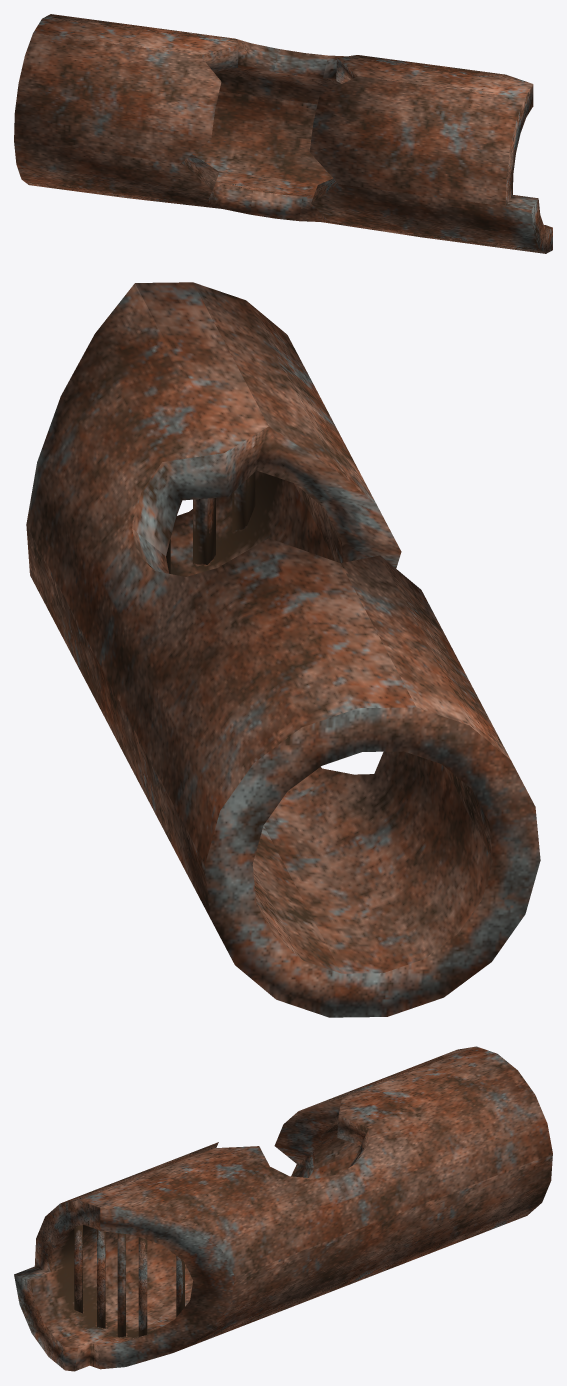
The model's file is tuberia_3.obj.
3 renders of one model, top to bottom at view 1: azimuth 30°, elevation 25°; view 2: azimuth 150°, elevation 25°; view 3: azimuth 270°, elevation 25°, orthographic. The views are drawn at different scales.
Parts seen in each view (by area): view 1: tuberia_002; view 2: tuberia_002; view 3: tuberia_002.
Boxes of the visible parts, <box> form: tuberia_002: <box>14,14,552,253</box>; tuberia_002: <box>26,282,540,1017</box>; tuberia_002: <box>14,1046,552,1371</box>.
Bounding box in the file's own units: 61.43 × 25.13 × 75.36.
1 material, 1 textured.
